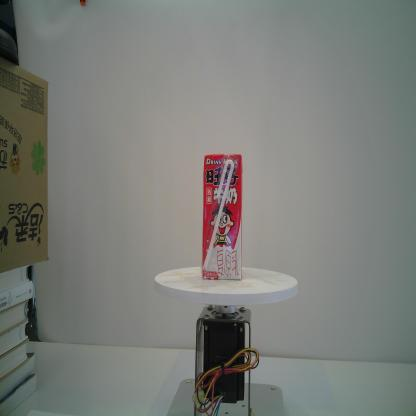Milk: (201, 150, 243, 281)
